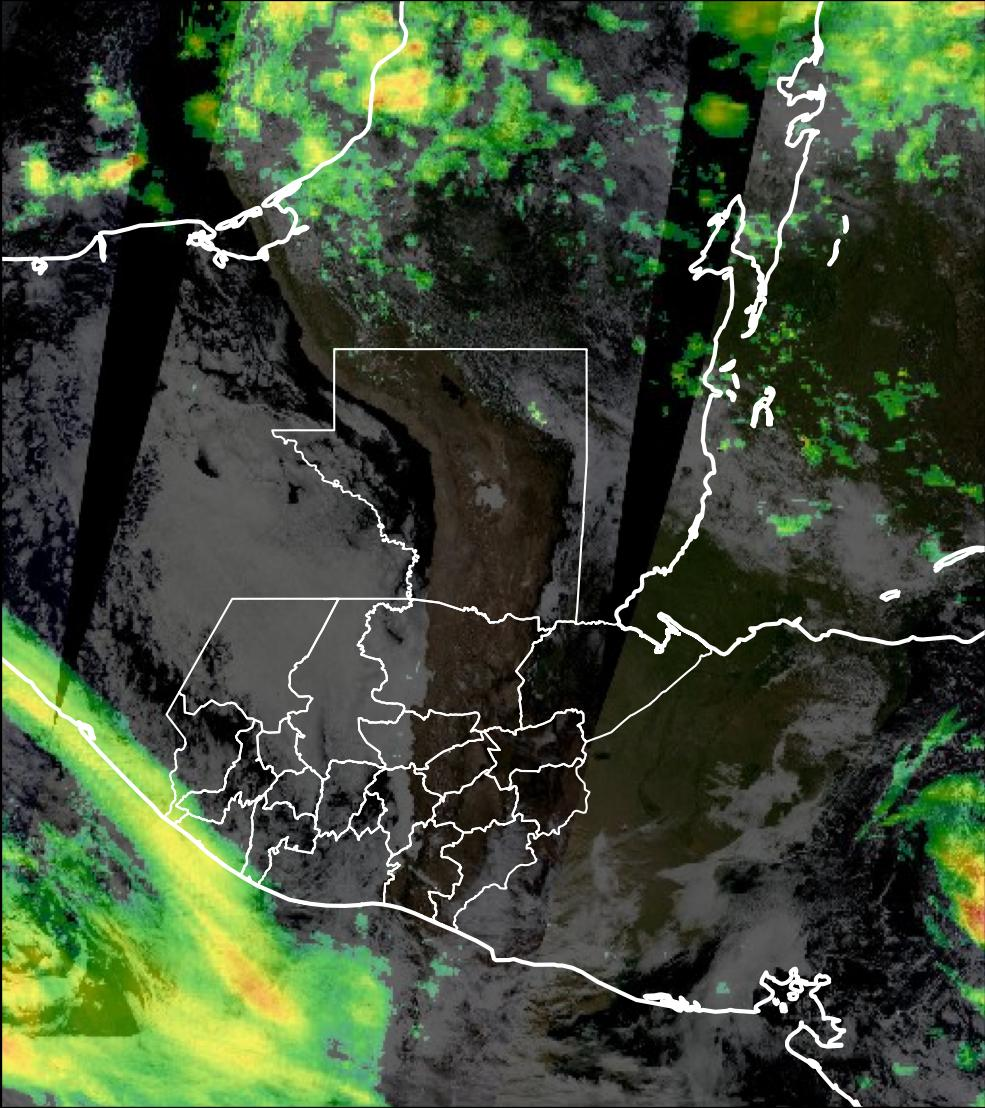precipitacion: (197, 920, 294, 1028)
